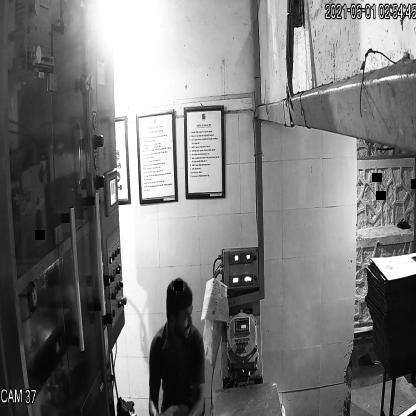no_goggles: (163, 305, 193, 326)
